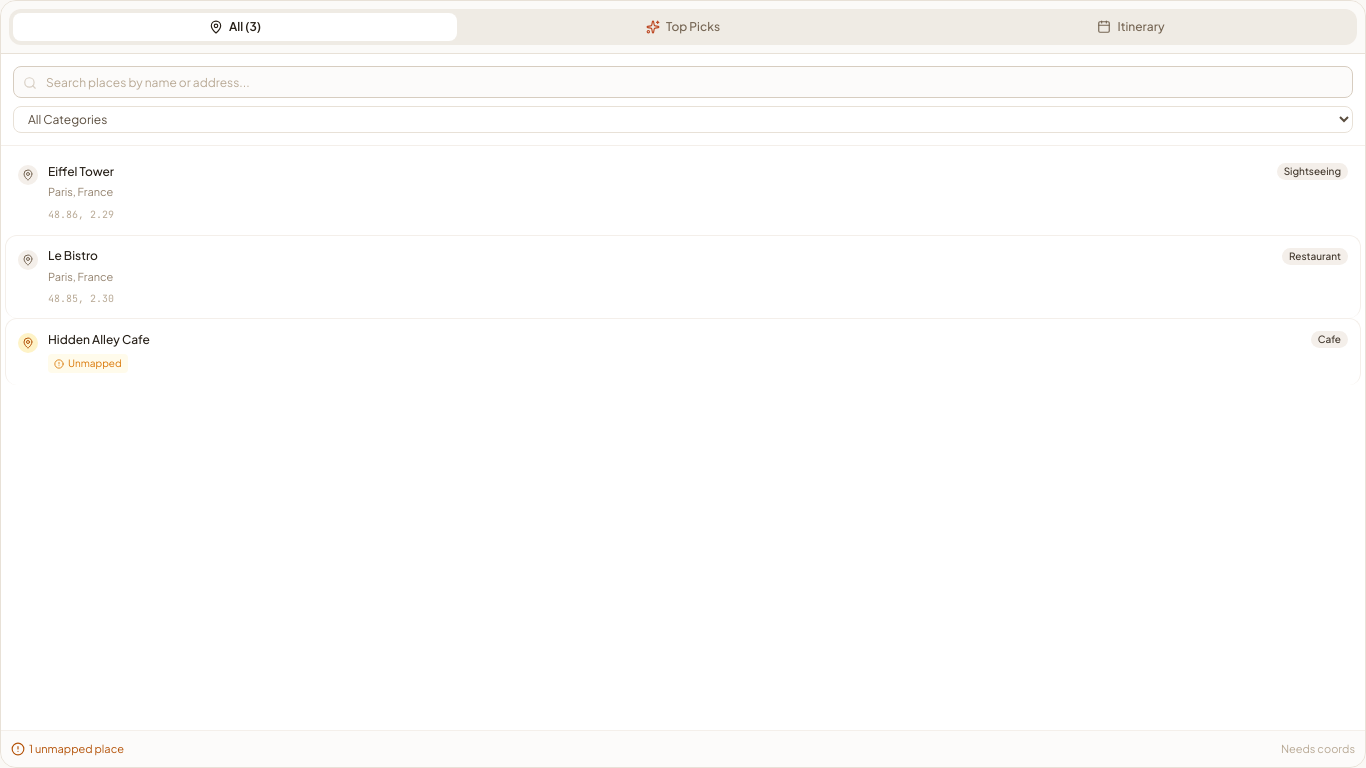
MapPlaceList › filters places based on search input
Type "Bistro" into the search field with placeholder "Search places by name or address..." at (683, 82), box [13,66,1353,98]
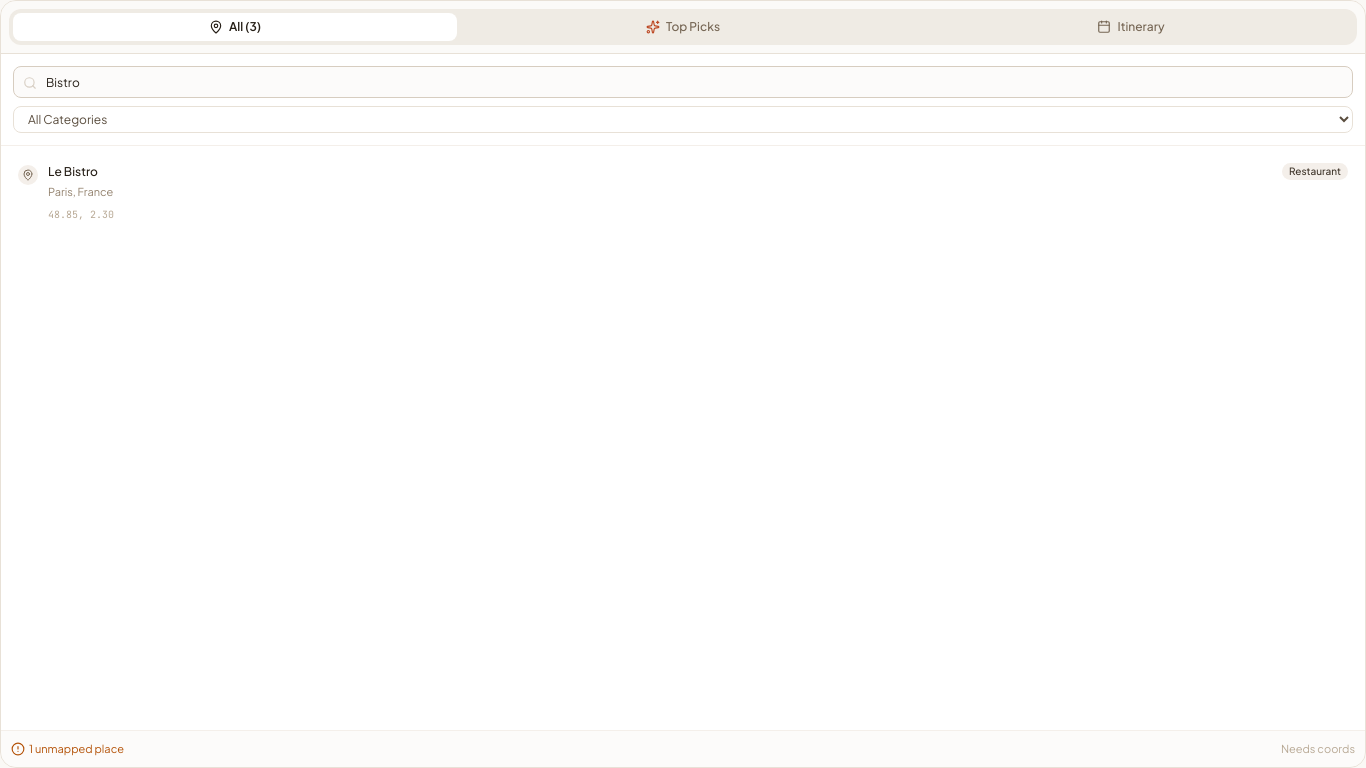
Expected: the heading "Le Bistro" is shown, [48,164,98,180]
Expected: the button "Eiffel Tower" is gone
